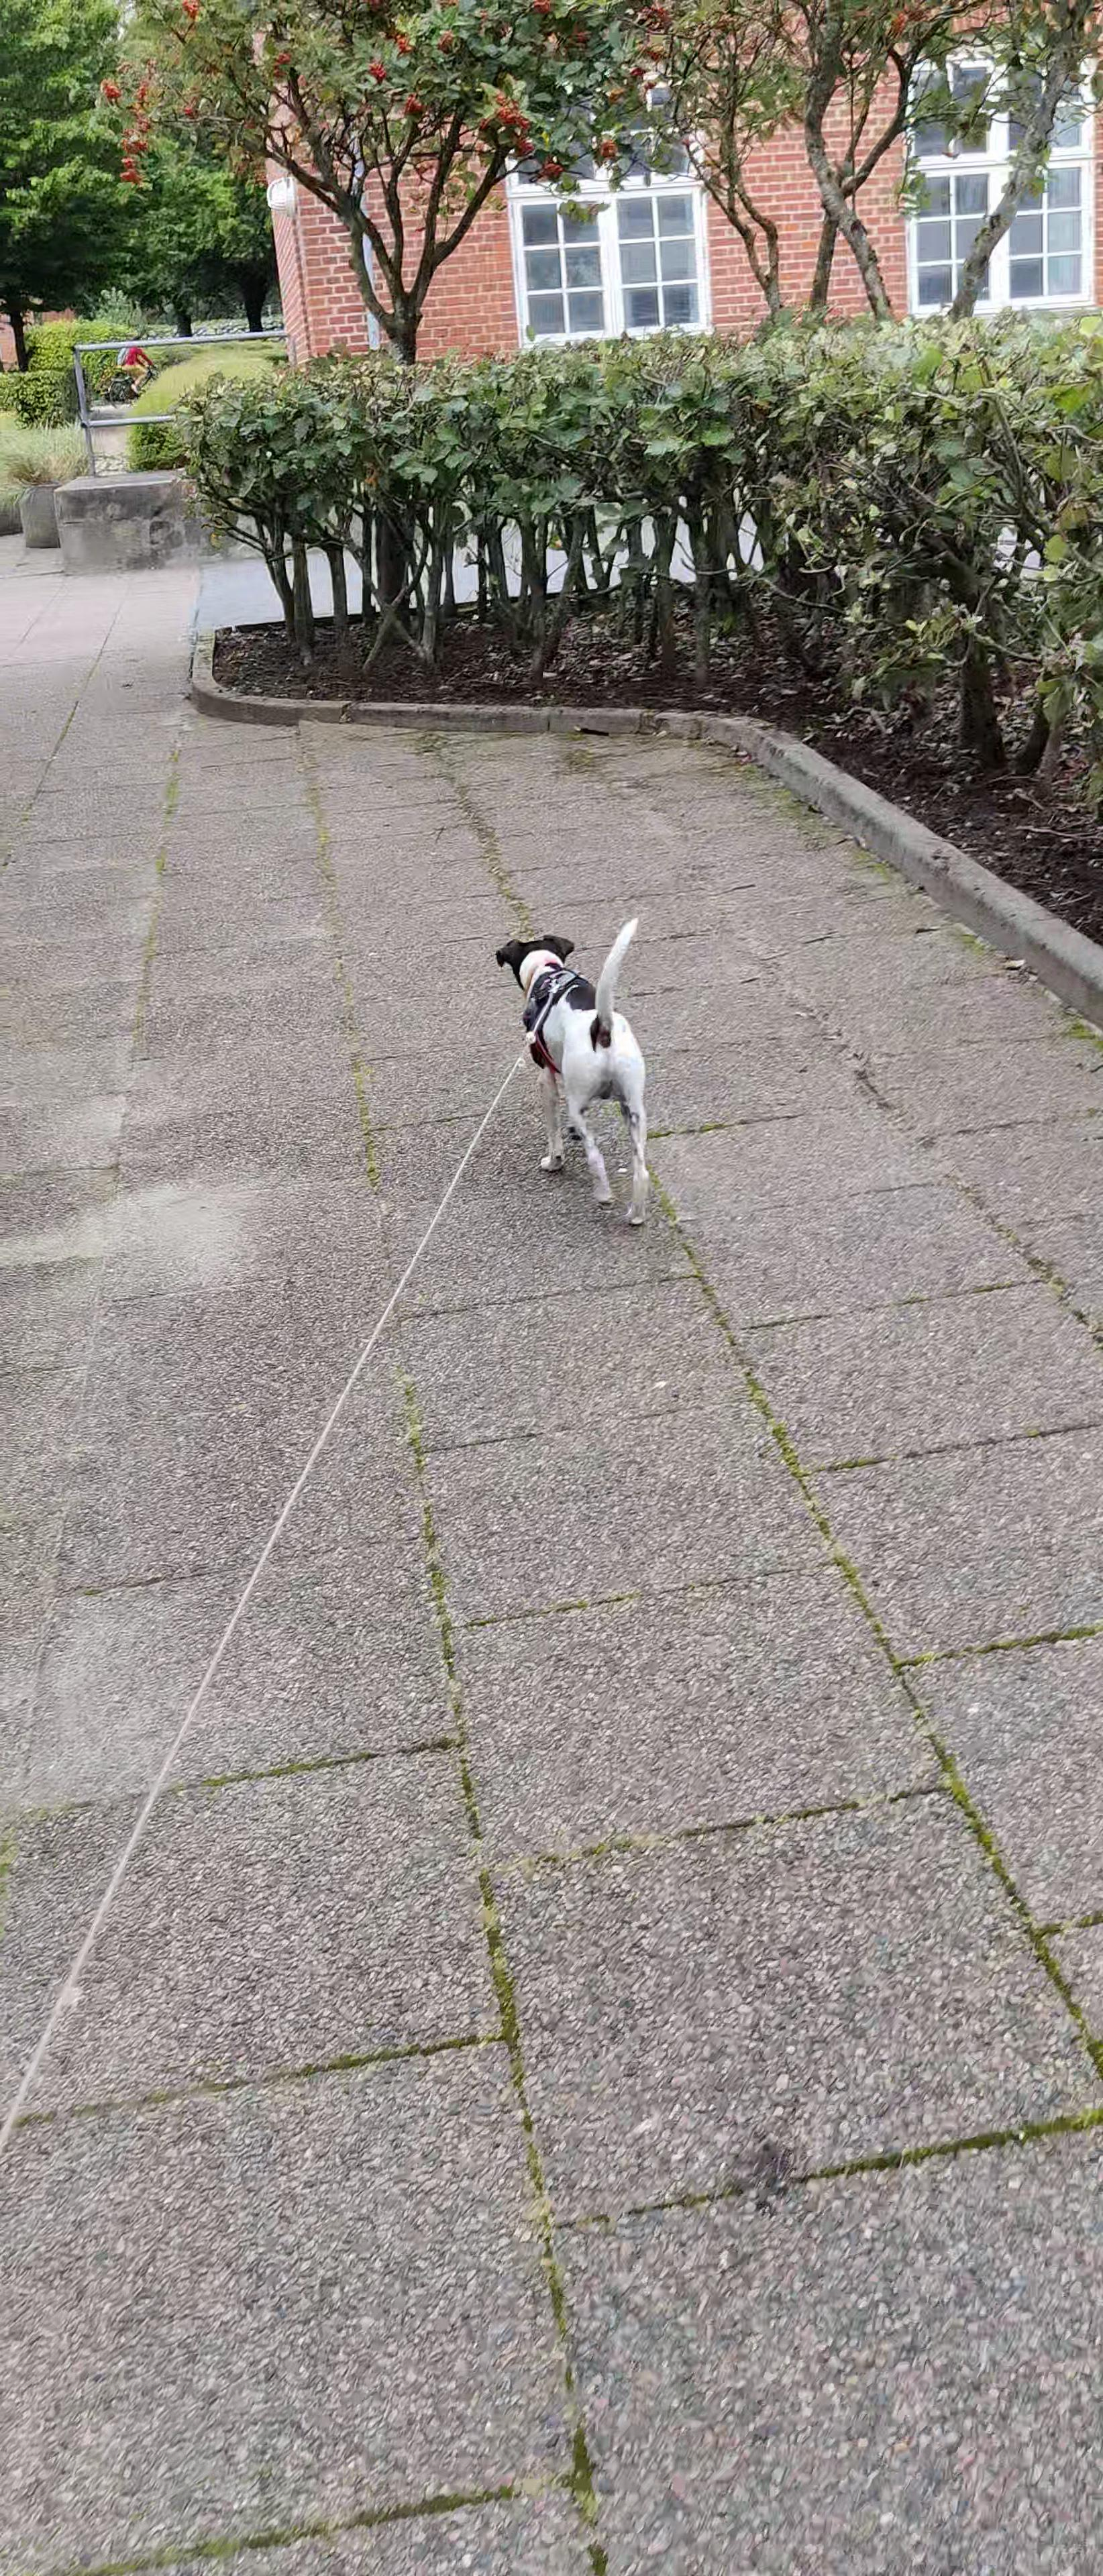Dog: (477, 897, 662, 1234)
